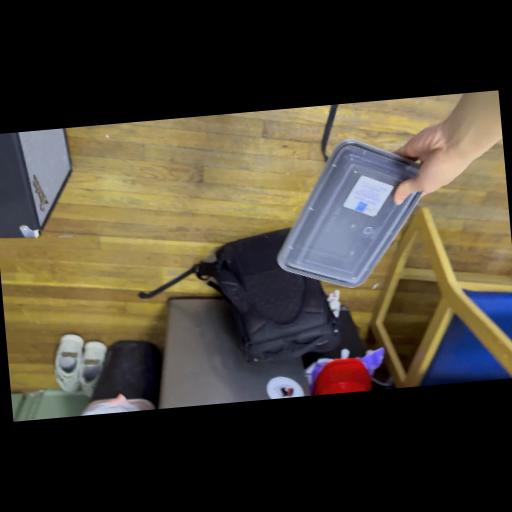rigid_plastic_container: (264, 125, 438, 306)
